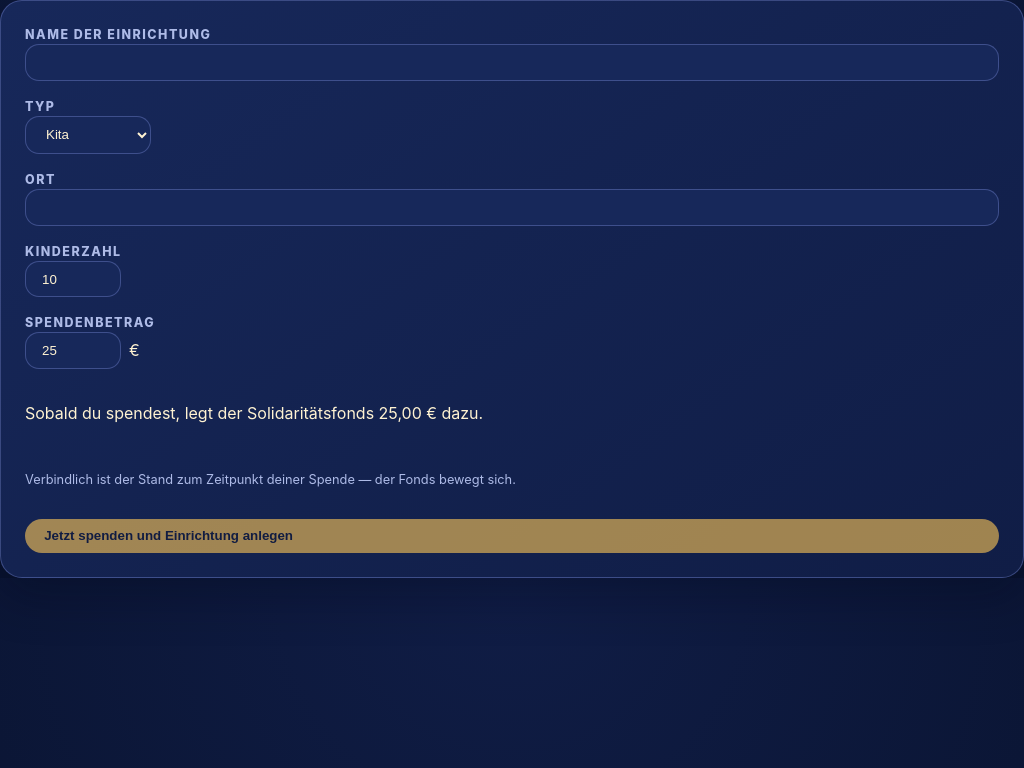
it: EinrichtungAnlegen › zeigt ein Fehlerbanner bei POST-Fehler und behält die eingegebenen Formulardaten
Expected: the text "Sobald du spendest, legt der Solidaritätsfonds 25,00 € dazu." is shown, [25,403,483,423]
Step 1. Type "Kita Sonnenschein" into the field labelled "Name der Einrichtung" → [512, 62], box [25,44,999,80]
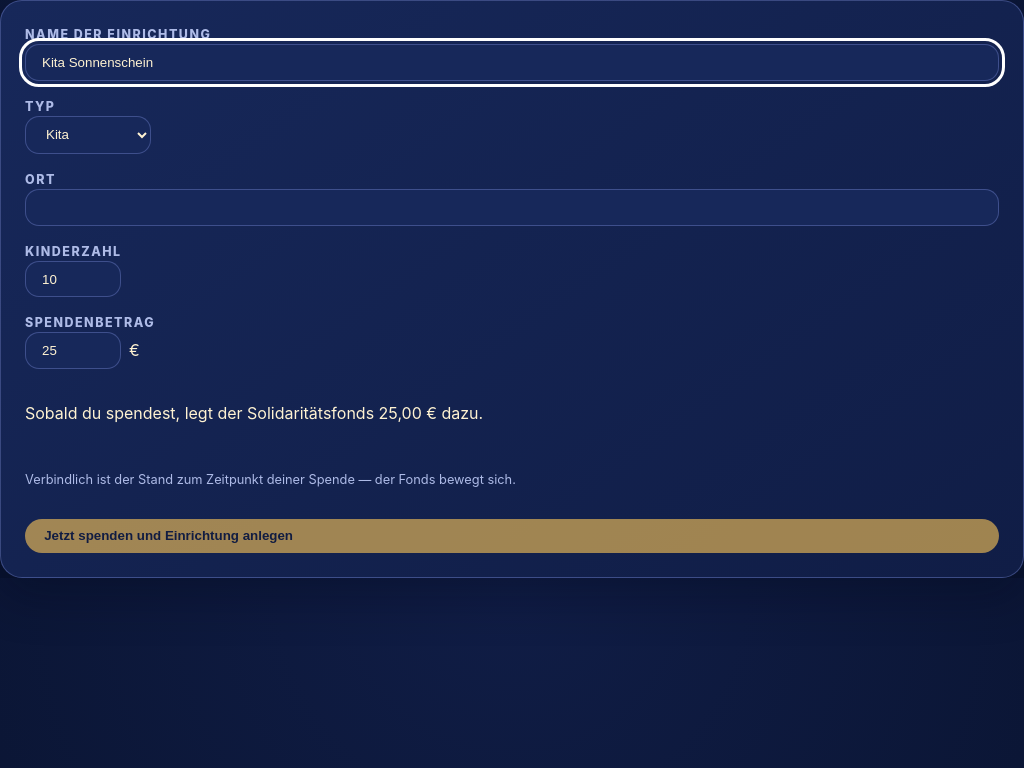
Step 2. Type "Kiel" into the field labelled "Ort" → [512, 208], box [25,189,999,226]
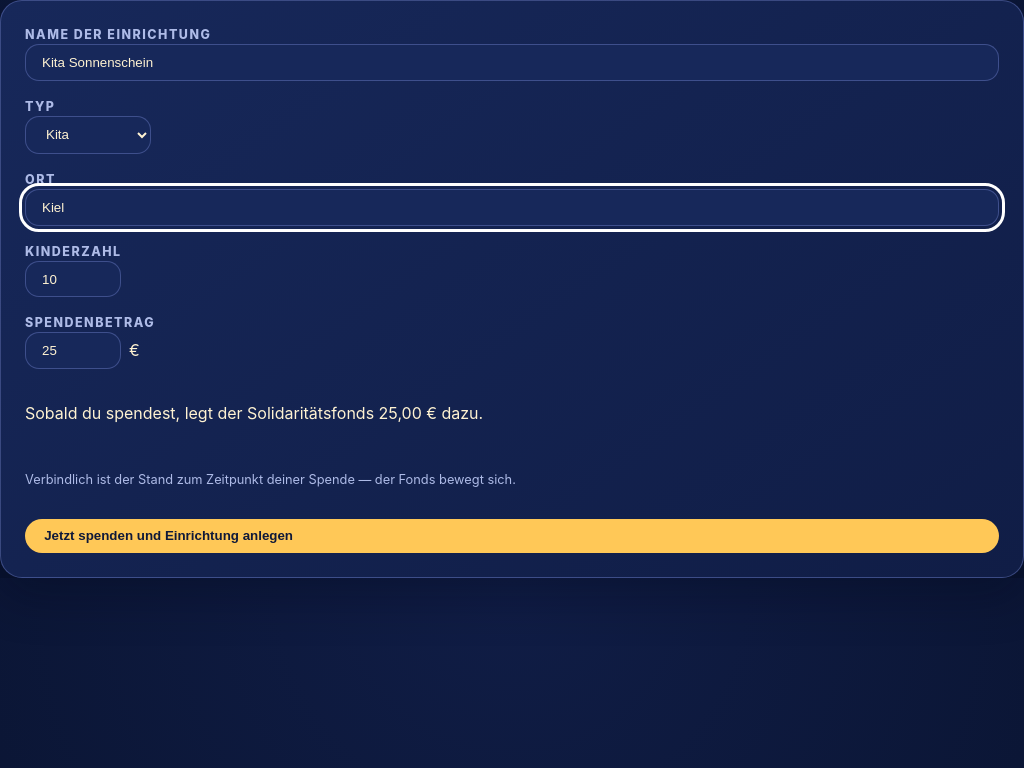
Step 3. Click the button "Jetzt spenden und Einrichtung anlegen" → [169, 536], box [25,519,999,553]
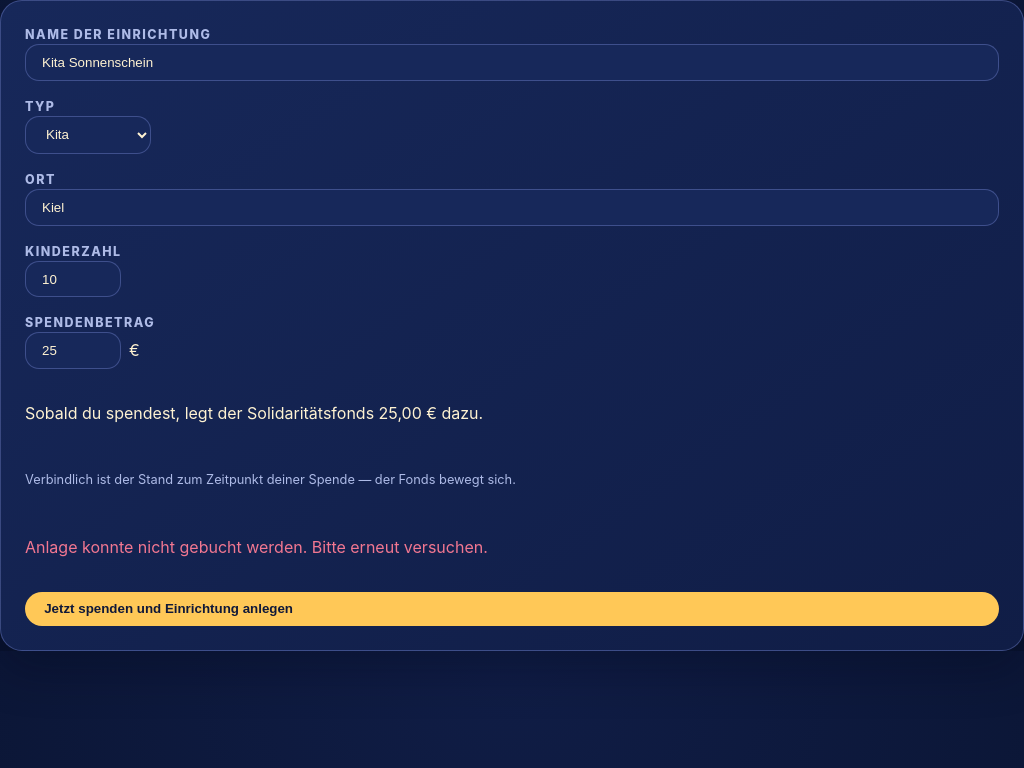
Expected: the message "Anlage konnte nicht gebucht werden. Bitte erneut versuchen." is shown, [25,537,488,557]
